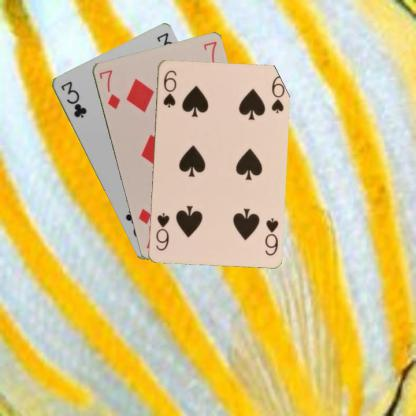3c: (58, 79, 88, 119)
6s: (160, 67, 178, 109), (262, 215, 280, 256)
7d: (96, 67, 121, 110)
